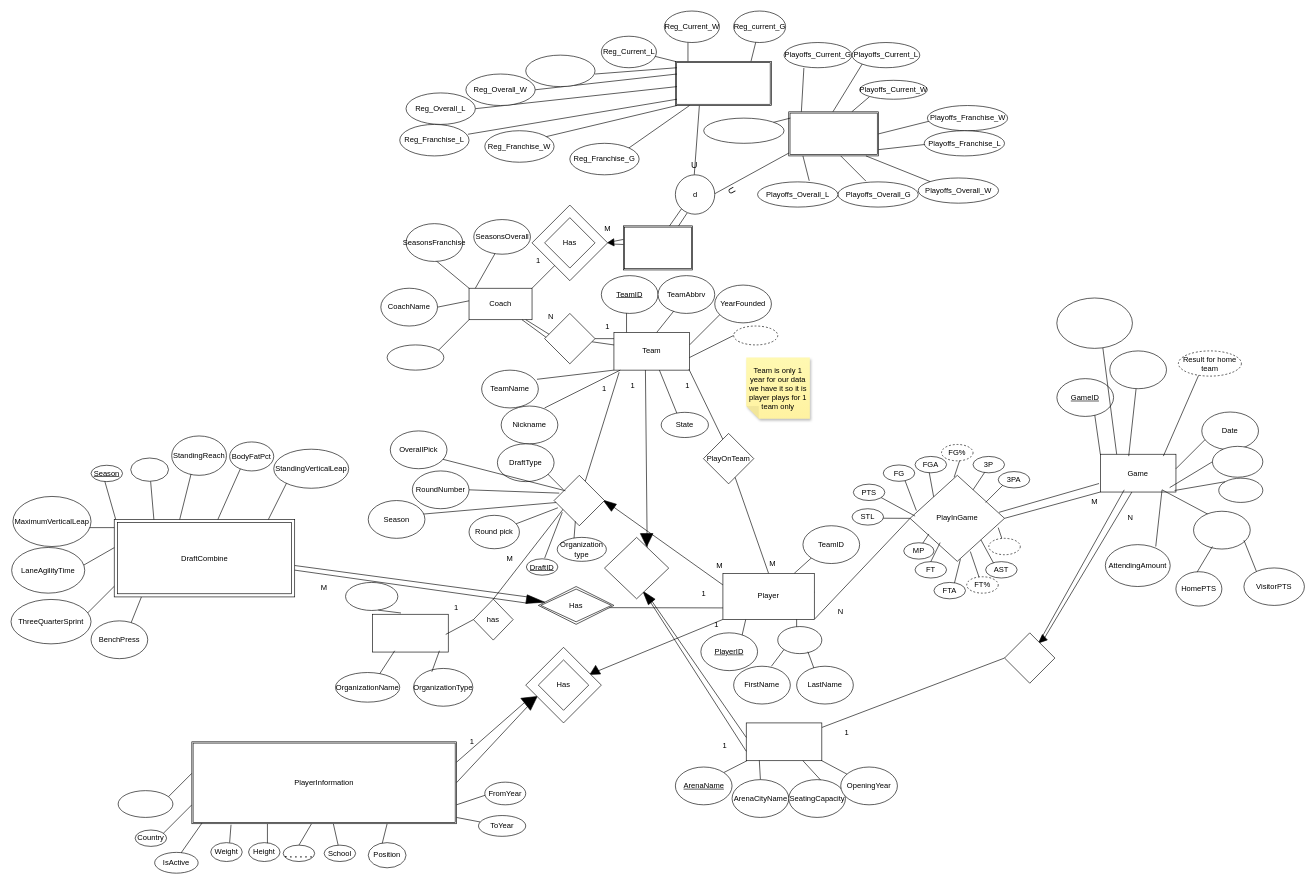
Image size: 1315x885. Some labels were removed from this diagram. Here are the shapes that lost their labels. From the top down, the centre of each, then its label:
At [560,70]: "Reg_Overall_G".
At [723,83]: "RegularGameCoachStats".
At [743,130]: "Playoffs_Franchise_G".
At [833,133]: "PlayoffGameCoachStats".
At [658,247]: "CoachStats".
At [569,338]: "Instructs".
At [755,335]: "Team Age".
At [1094,322]: "Overtime".
At [415,357]: "CoachID".
At [1138,369]: "Length".
At [149,469]: "Wingspan".
At [1237,461]: "VisitorTeamID".
At [578,500]: "Drafts".
At [1240,490]: "HomeTeamID".
At [1004,546]: "3P%".
At [1221,530]: "Final score".
At [636,568]: "HasHomeArena".
At [371,596]: "OrganizationID".
At [410,633]: "Organization".
At [799,640]: "Name".
At [1029,657]: "Hosts".
At [784,741]: "Arena".
At [145,803]: "SeasonsPlayed".
At [299,853]: "Birthdate".
